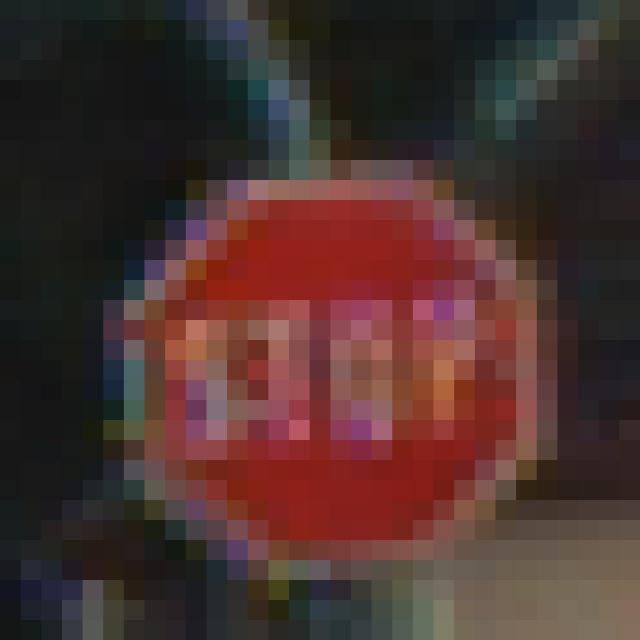STOP: (104, 121, 517, 521)
